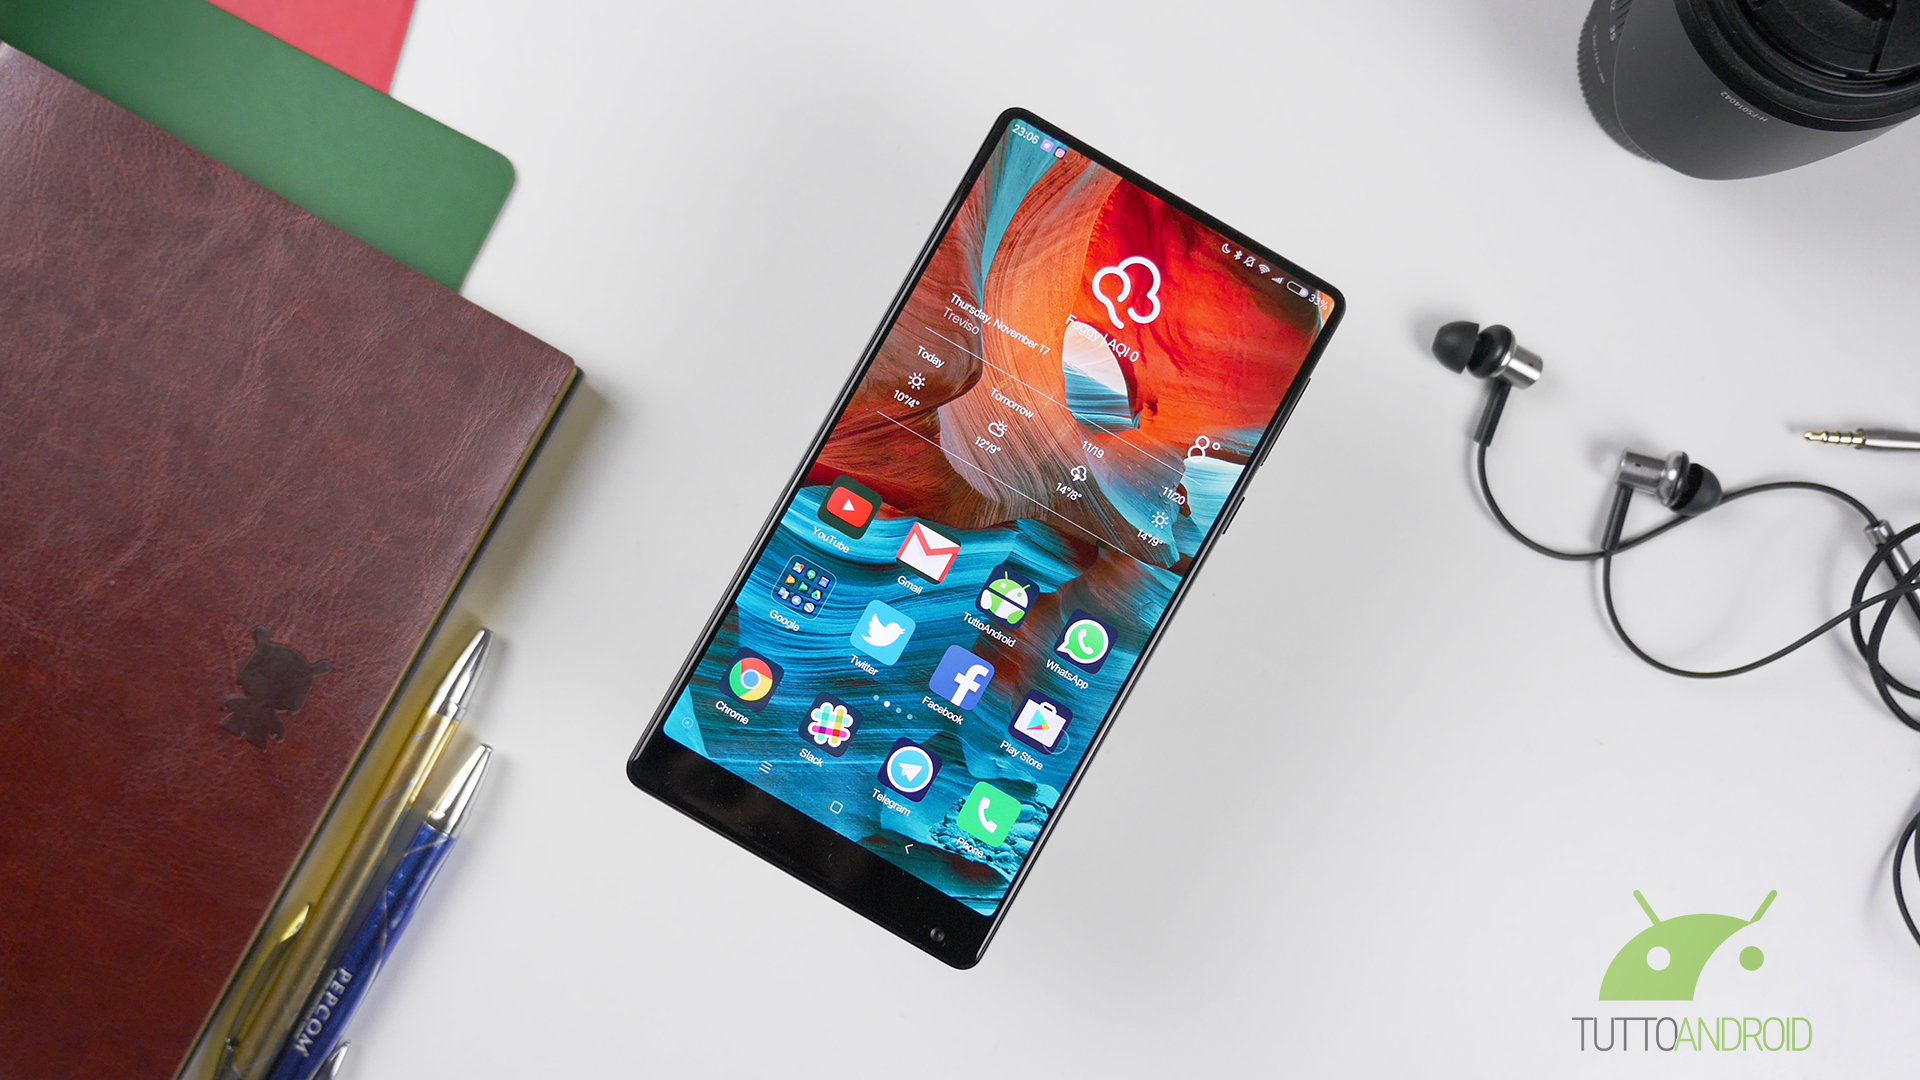smartphone: (625, 104, 1346, 971)
